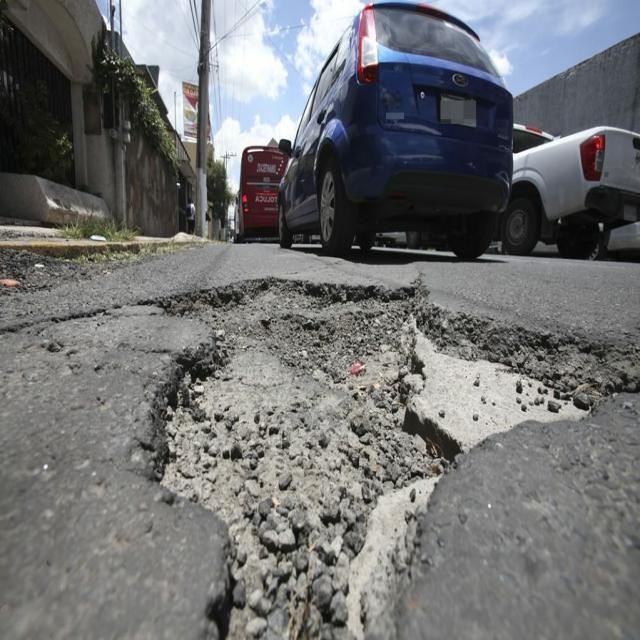pothole: (70, 272, 639, 640)
